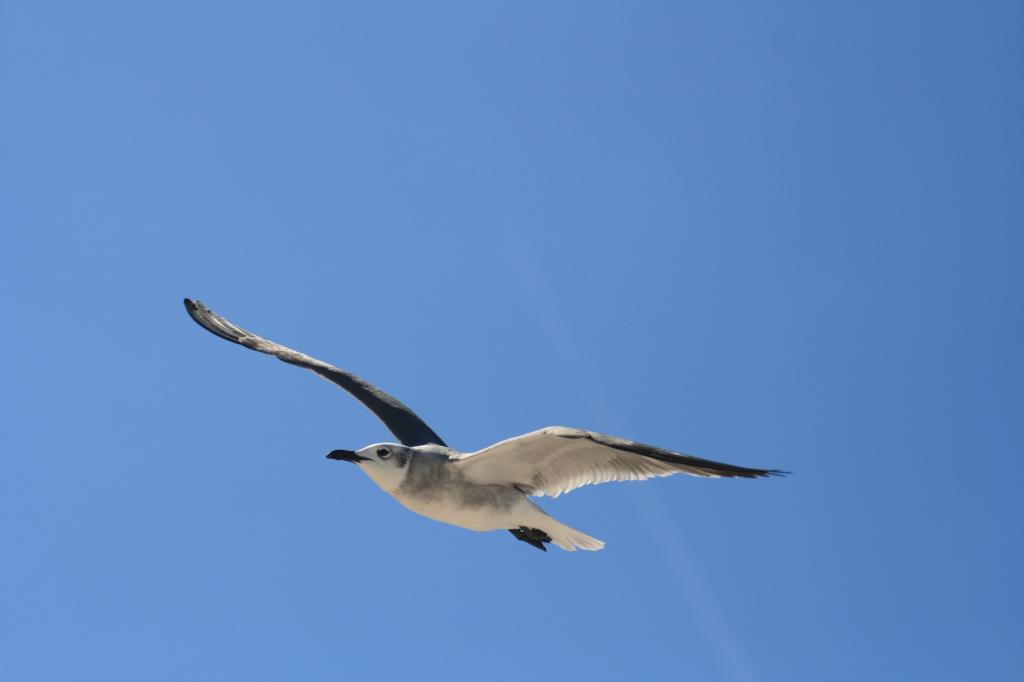bird: (186, 293, 798, 553)
